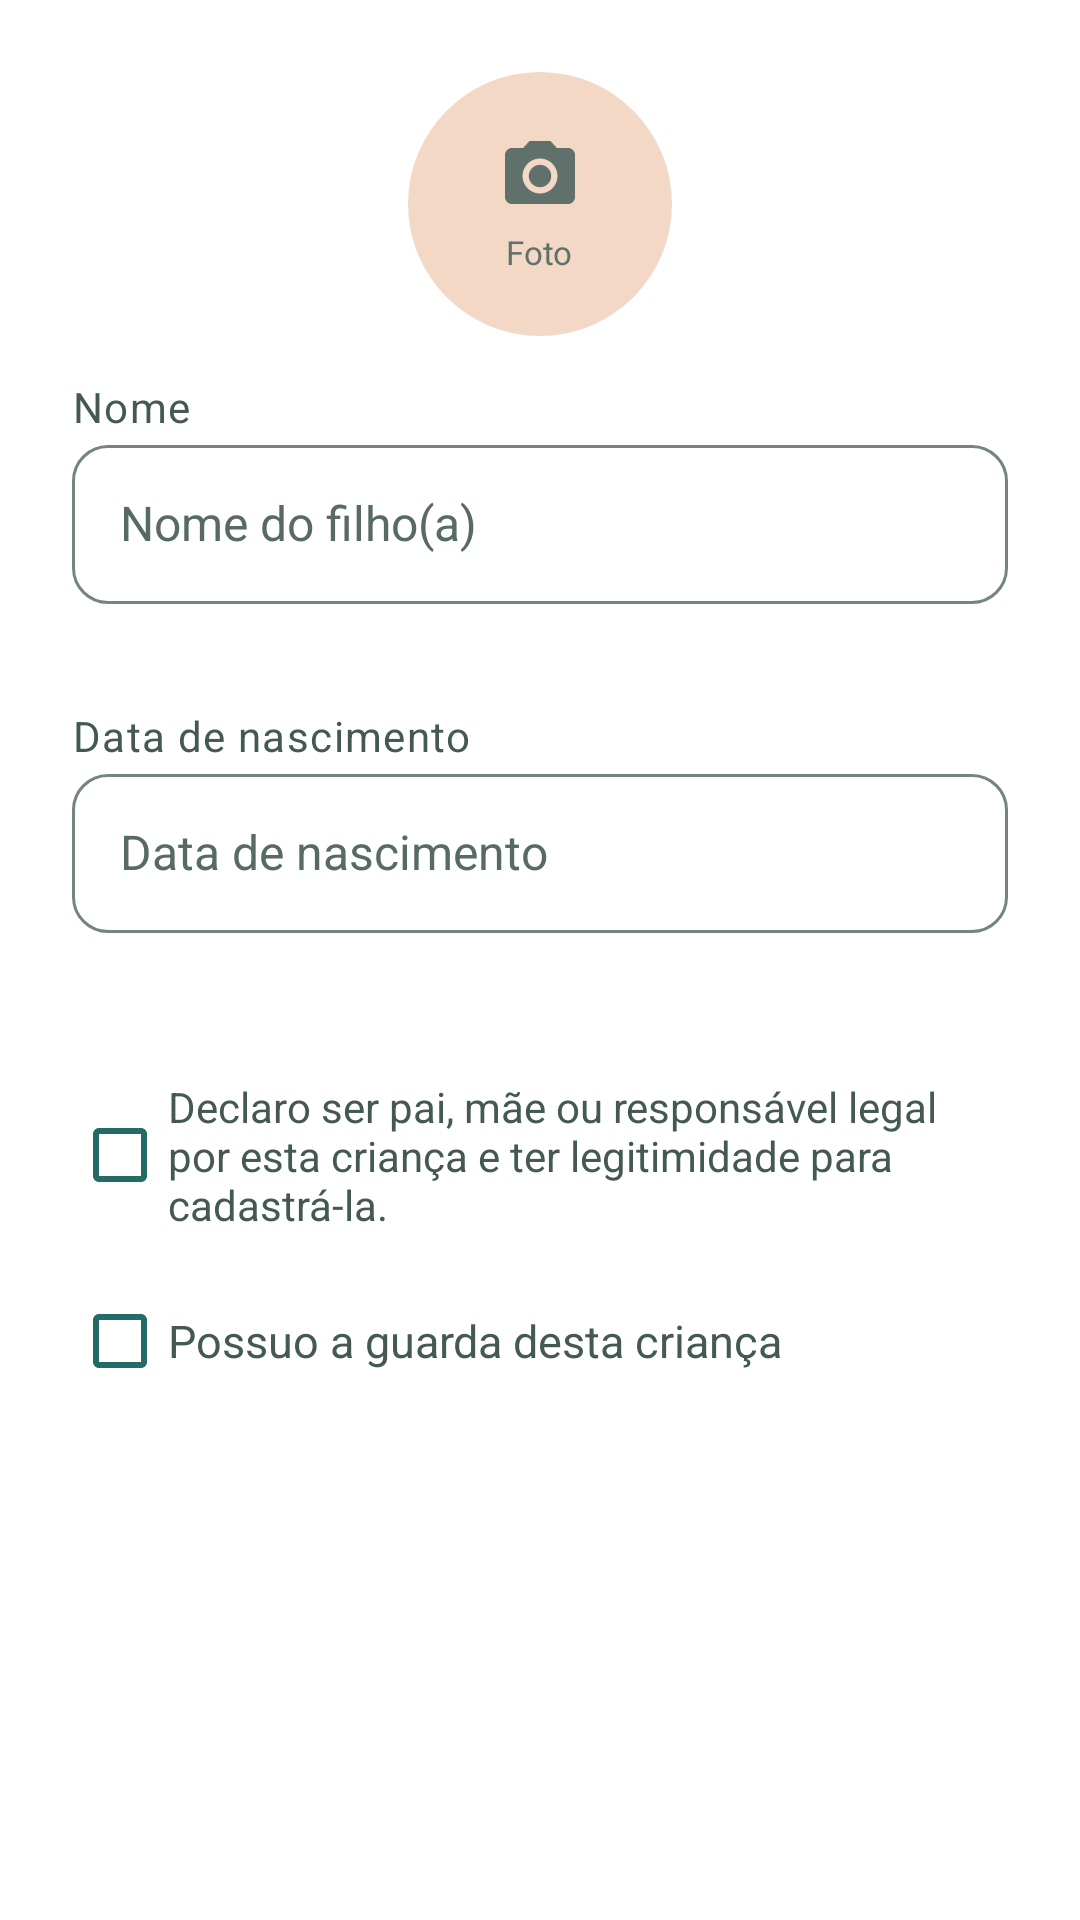

Icon bounding boxes for this 1080×1920 phone screenshot, format (x1, y1, x2, y2):
camera: (505, 141, 575, 204)
